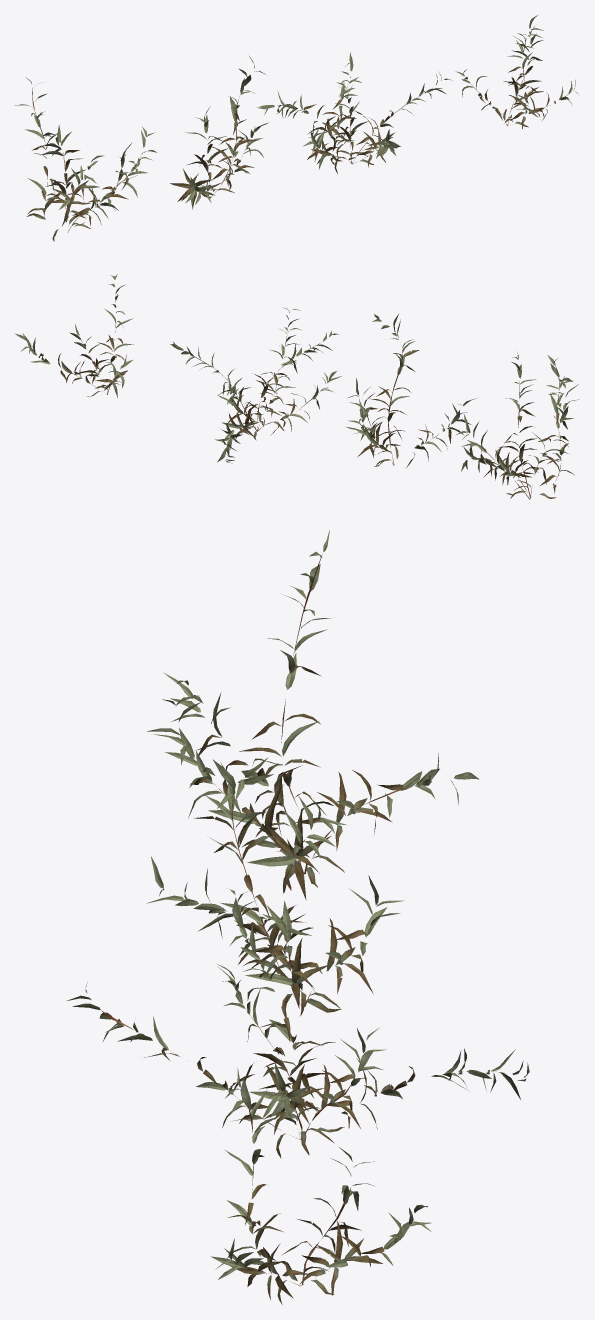
Rendered from shrub_02.glb.
3 views of the same model, one above another, from view 1: azimuth 30°, elevation 25°; view 2: azimuth 150°, elevation 25°; view 3: azimuth 270°, elevation 25° (orthographic). The views are drawn at different scales.
Visible parts, largest first — view 1: shrub_02_a, shrub_02_c, shrub_02_b, shrub_02_d; view 2: shrub_02_a, shrub_02_c, shrub_02_b, shrub_02_d; view 3: shrub_02_a, shrub_02_c, shrub_02_b, shrub_02_d.
Part boxes in pixels (x1,y1,x2,y2): shrub_02_a: (15, 77, 157, 241); shrub_02_c: (257, 52, 451, 173); shrub_02_b: (170, 56, 268, 209); shrub_02_d: (455, 15, 578, 128); shrub_02_a: (456, 352, 579, 499); shrub_02_c: (170, 307, 341, 463); shrub_02_b: (346, 314, 476, 467); shrub_02_d: (15, 274, 133, 397); shrub_02_a: (147, 530, 479, 899); shrub_02_c: (67, 889, 529, 1158); shrub_02_b: (146, 758, 404, 1017); shrub_02_d: (210, 1068, 431, 1304).
Size of the model in its own units: 6.05 by 1.7 by 2.28.
Materials: 1 (1 with a texture image).
